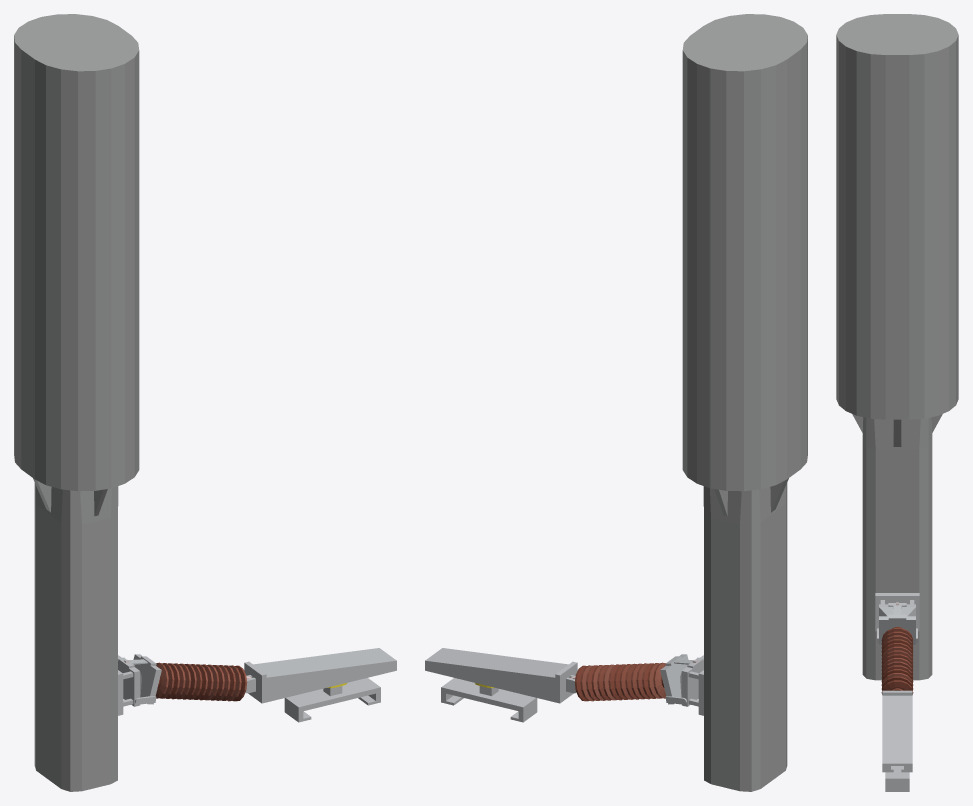
The model's file is catenary_high-speed_rigid_short.obj.
3 views of the same model, side by side, from view 1: azimuth 30°, elevation 25°; view 2: azimuth 150°, elevation 25°; view 3: azimuth 270°, elevation 25° (orthographic). The views are drawn at different scales.
Parts seen in each view (by area): view 1: 1.001; view 2: 1.001; view 3: 1.001.
Boxes of the visible parts, x1,y1,x2,y2 form: 1.001: (14,14,396,791); 1.001: (425,14,807,791); 1.001: (836,14,958,791).
Bounding box in the file's own units: 0.9309 × 1.8 × 0.3146.
Materials: 1 (1 with a texture image).
